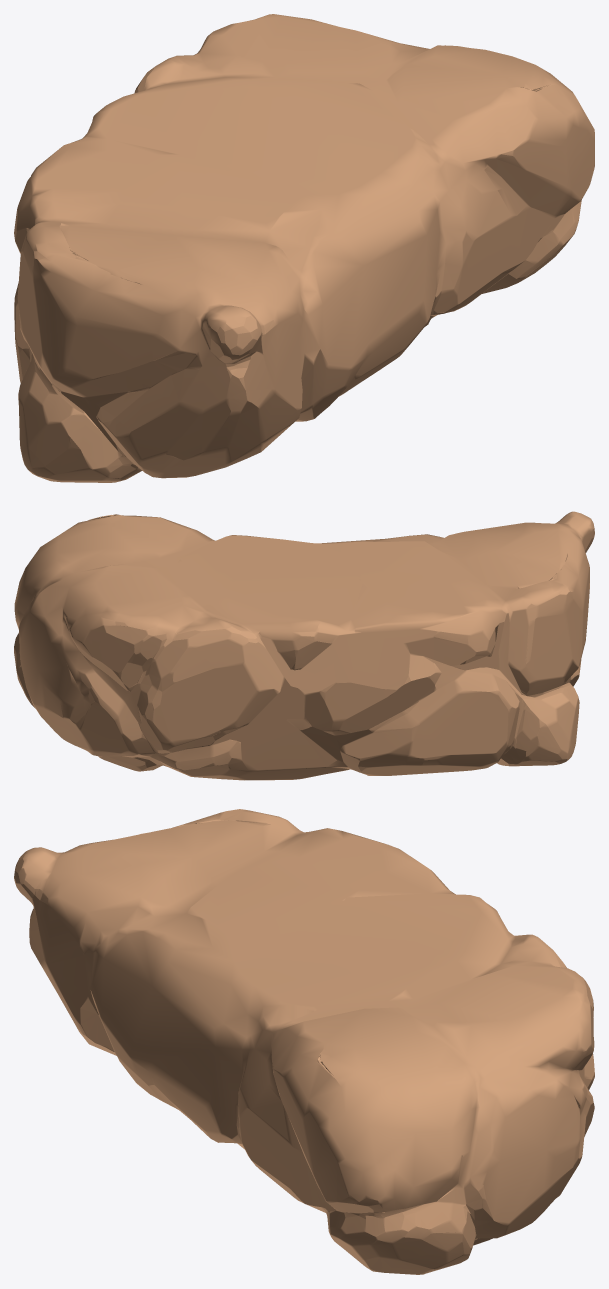
3 renders of one model, top to bottom at view 1: azimuth 30°, elevation 25°; view 2: azimuth 150°, elevation 25°; view 3: azimuth 270°, elevation 25°, orthographic. The views are drawn at different scales.
Parts seen in each view (by area): view 1: Mesh_35_LOD0; view 2: Mesh_35_LOD0; view 3: Mesh_35_LOD0.
Part boxes in pixels (x1,y1,x2,y2): Mesh_35_LOD0: (14,14,594,482); Mesh_35_LOD0: (14,511,594,780); Mesh_35_LOD0: (14,809,594,1274).
Size of what is drawn, in the model's own units: 3036 by 1097 by 2544.
